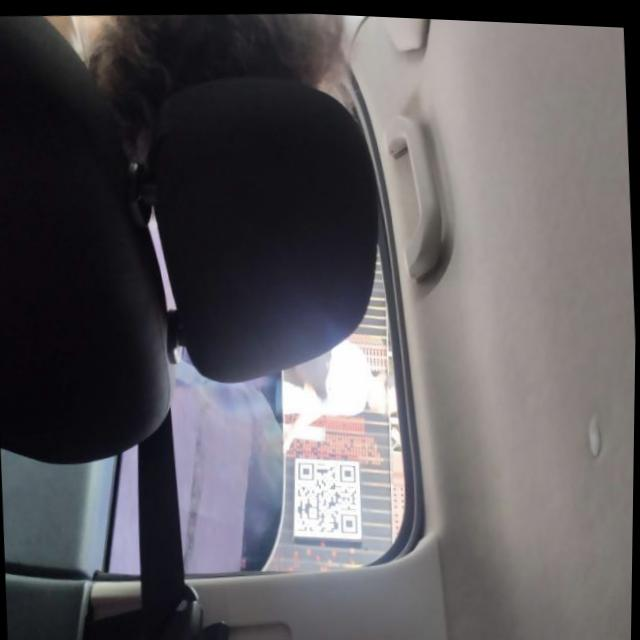qrcode: (294, 458, 360, 536)
